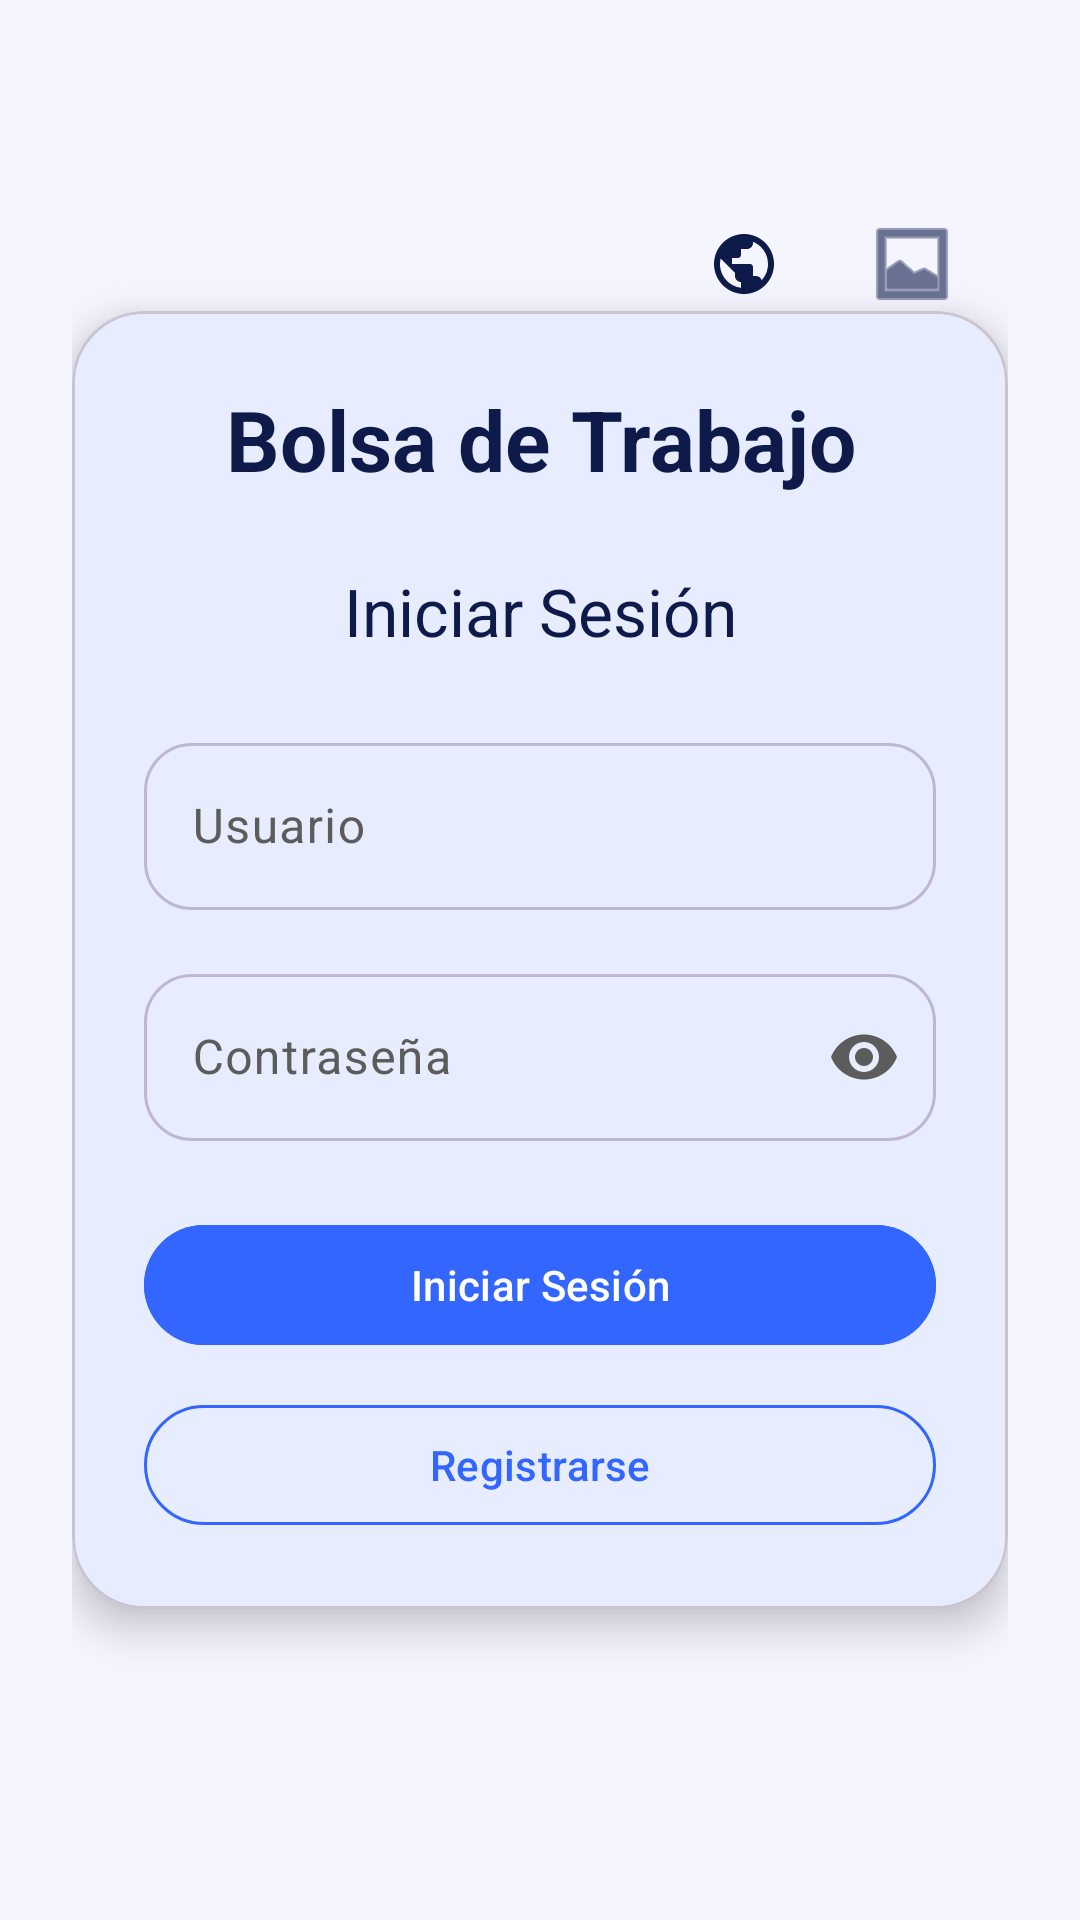

Icon bounding boxes for this 1080*1920 phone screenshot, format (left=x1, top=y1, right=x2, bottom=y2):
Seleccionar idioma: (left=714, top=234, right=774, bottom=294)
